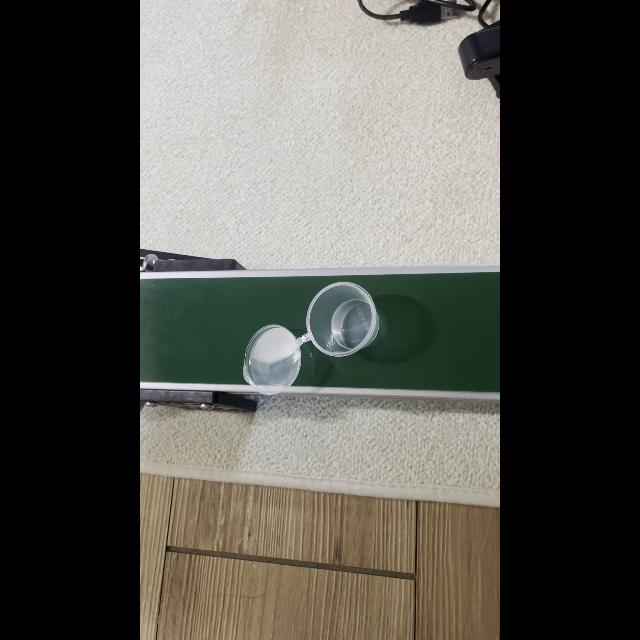clean: (309, 288, 375, 352), (241, 332, 295, 382)
